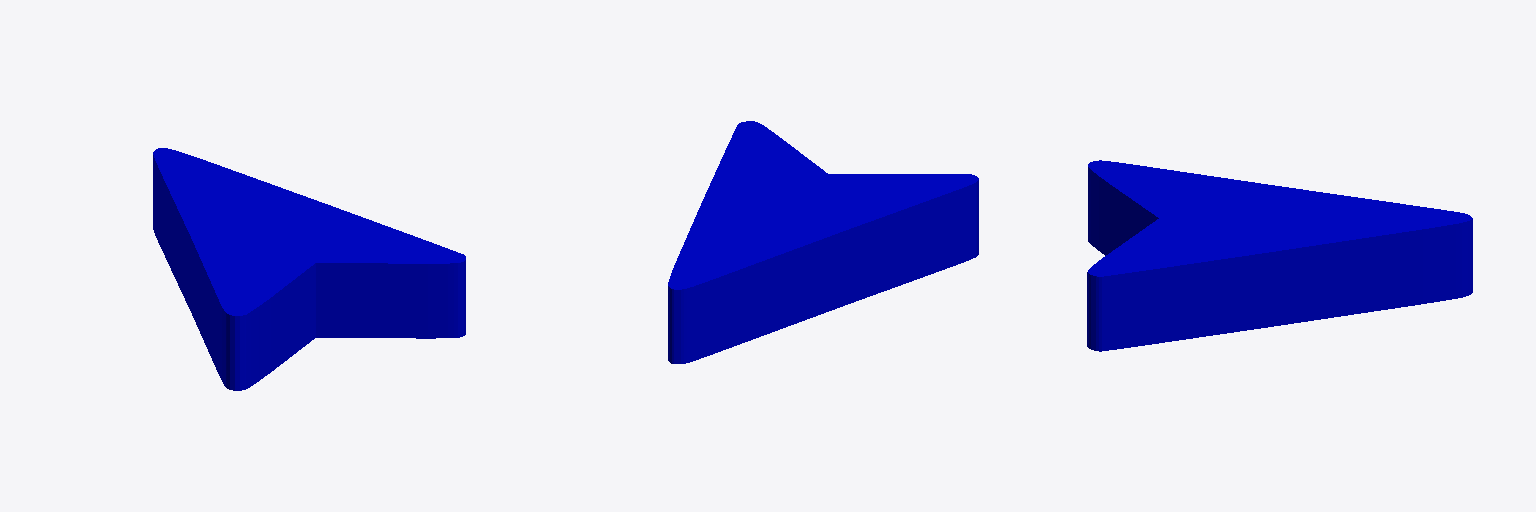
File: arrow.obj
3 views of the same model, side by side, from view 1: azimuth 30°, elevation 25°; view 2: azimuth 150°, elevation 25°; view 3: azimuth 270°, elevation 25° (orthographic).
Parts seen in each view (by area): view 1: icon_positionArrow.001_icon_positionArrow; view 2: icon_positionArrow.001_icon_positionArrow; view 3: icon_positionArrow.001_icon_positionArrow.
Part boxes in pixels (bbox=[...]): icon_positionArrow.001_icon_positionArrow: bbox=[153, 148, 465, 390]; icon_positionArrow.001_icon_positionArrow: bbox=[668, 121, 978, 363]; icon_positionArrow.001_icon_positionArrow: bbox=[1087, 160, 1472, 351].
Size of the model in its own units: 10 by 3 by 14.